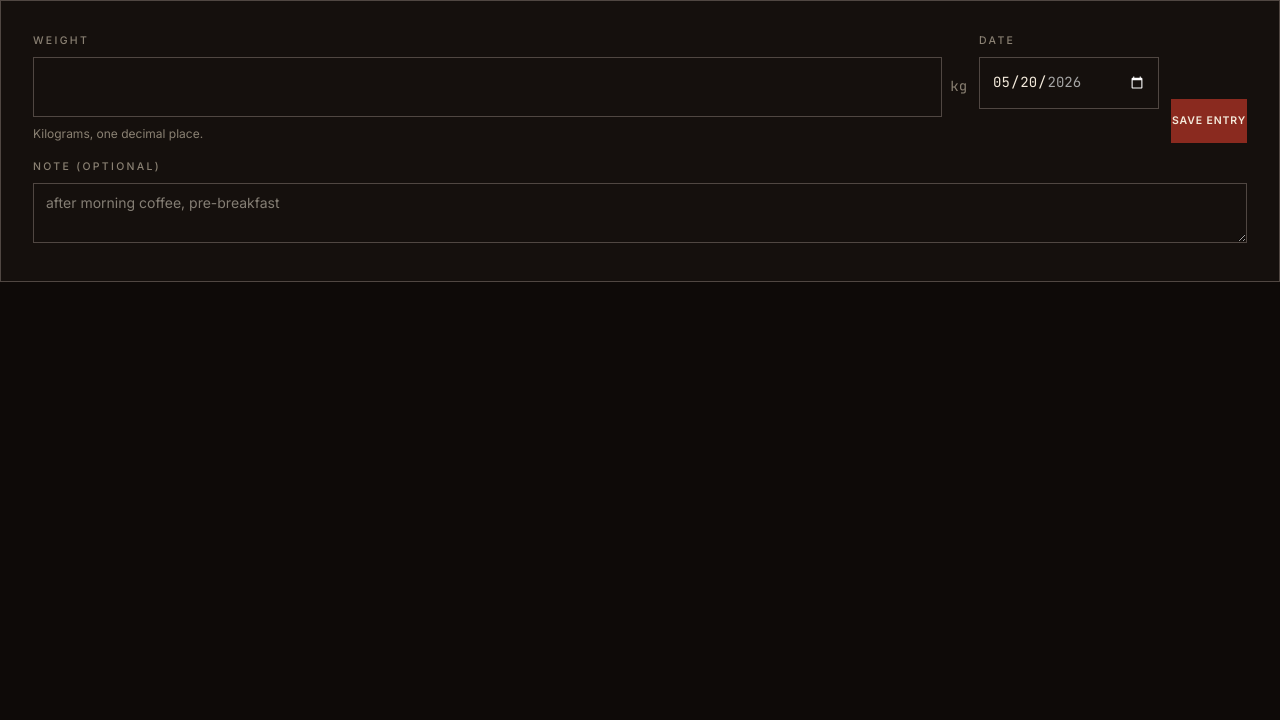
Test: <WeightQuickAdd /> › Task 4.5 R1 C1 — rollback with no prior committed value clears the optimistic mirror
Type "72.5" into the number field with test id "weight-quick-add-input" at coordinates (488, 87), box [33,57,942,117]
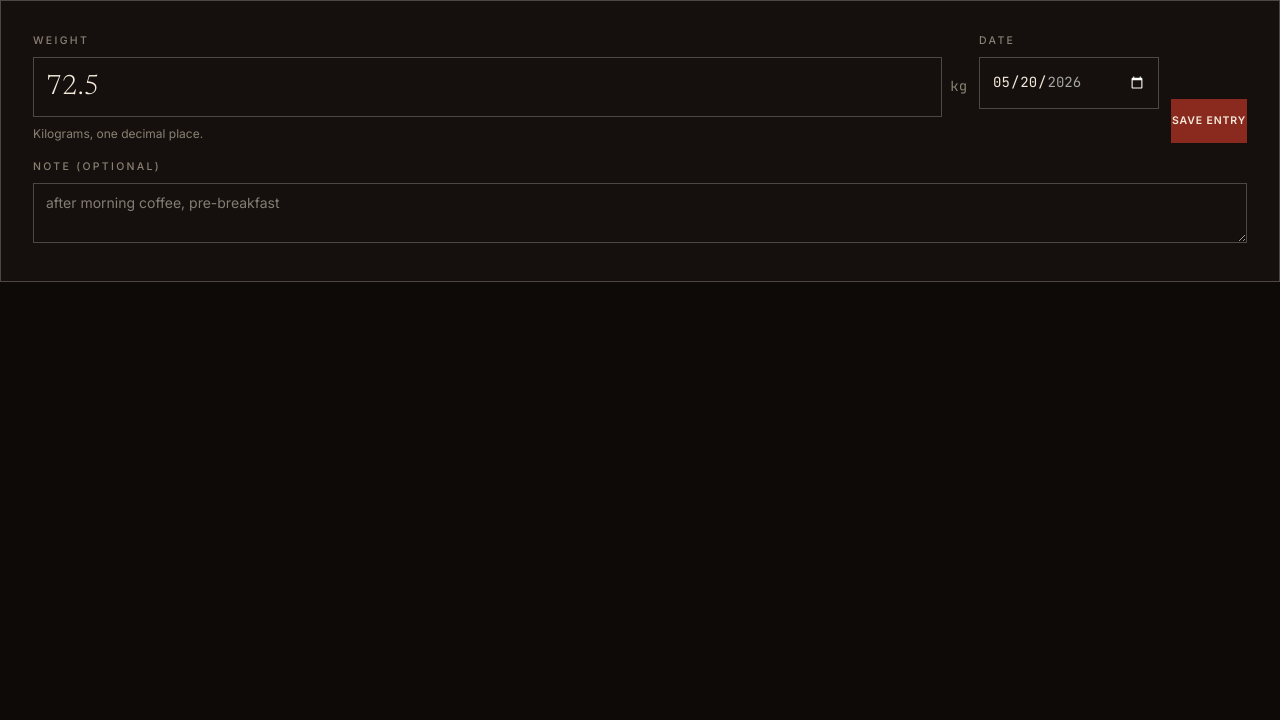
Submit the form with test id "weight-quick-add-submit", box [33,33,1247,248]
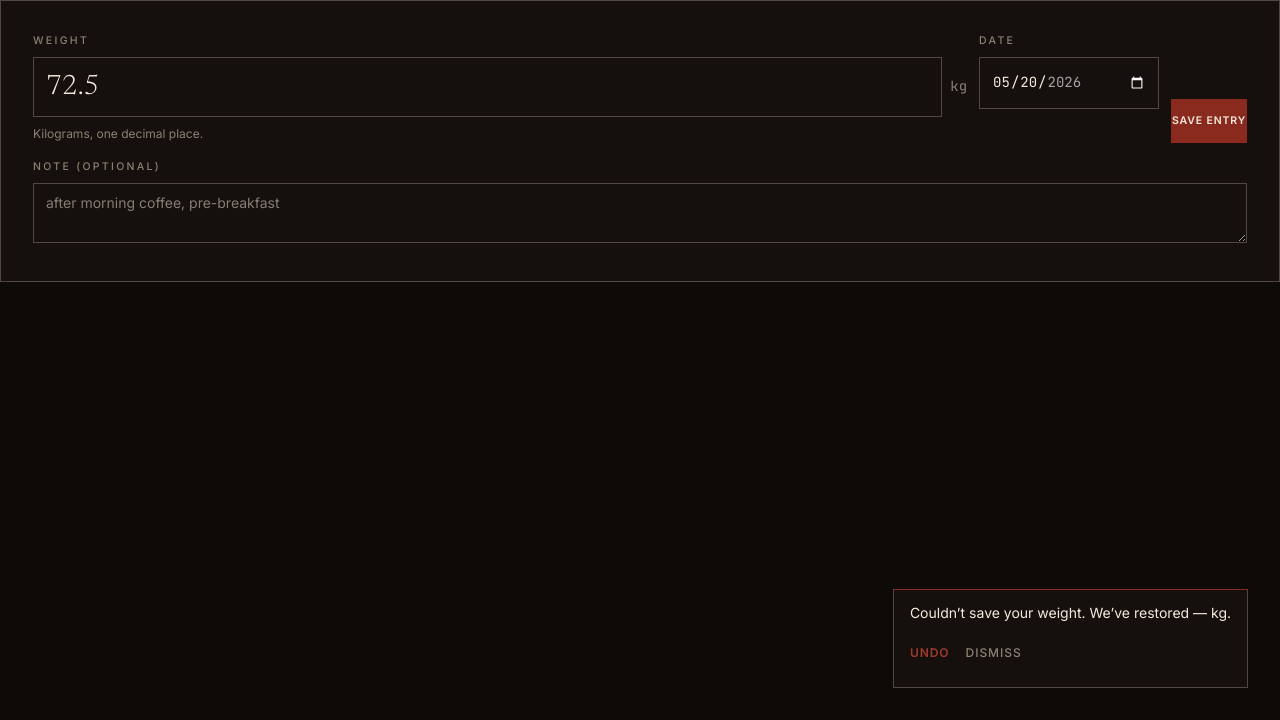
Check: the message "Couldn’t save your weight. We’ve restored — kg. UNDO DISMISS" is shown, box [893,589,1248,688]
